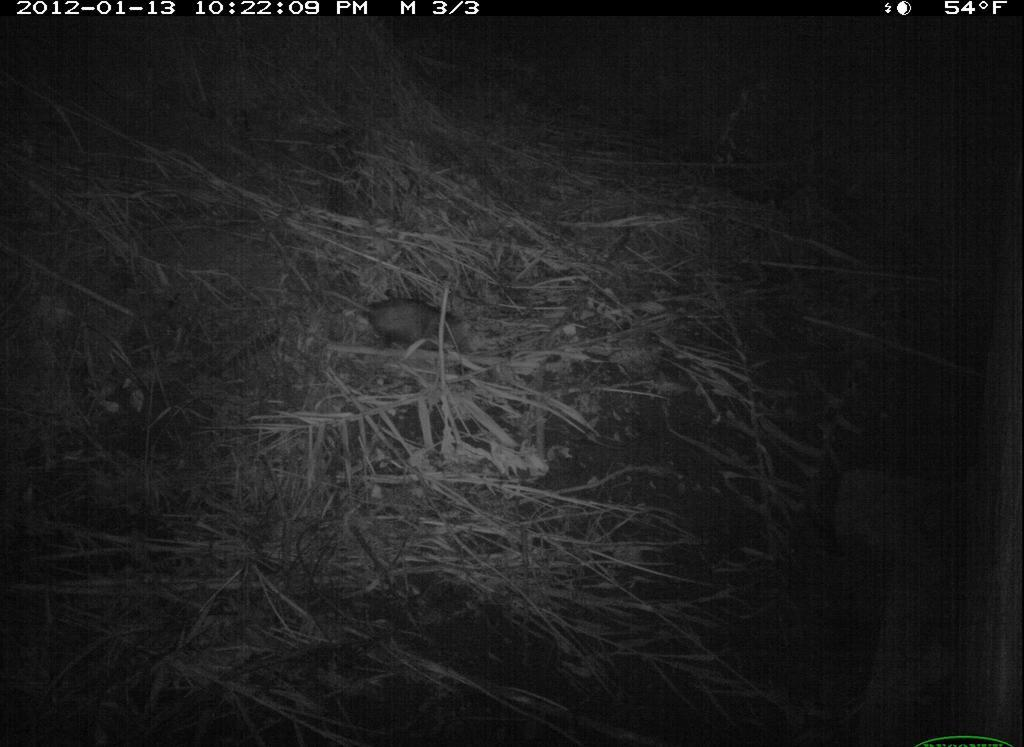opossum: (310, 280, 489, 363)
